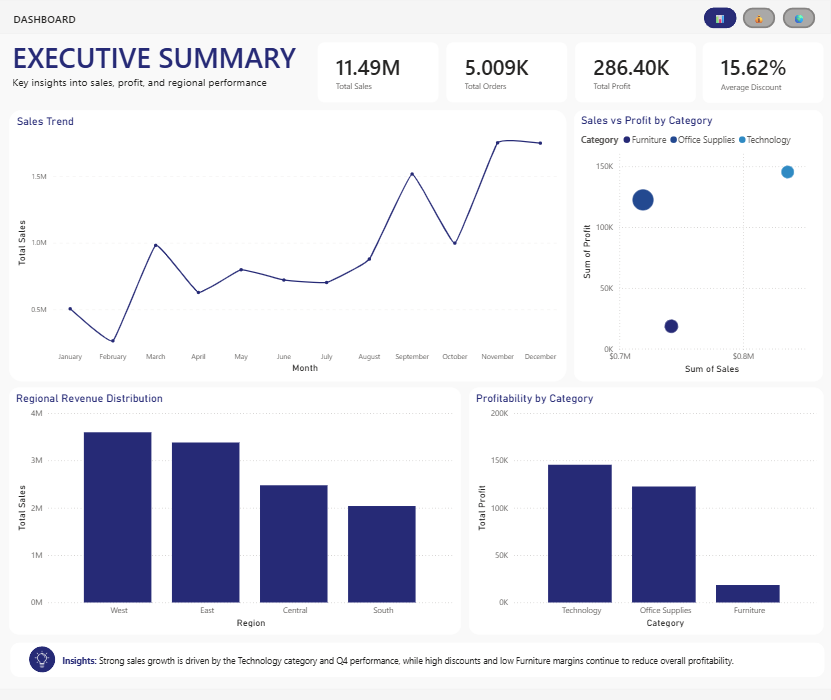

What the dashboard file says about the page in this screenshot:
{"tool":"powerbi","page":{"name":"Executive Summary","canvas":[1280,1080],"ordinal":0},"visuals":[{"type":"cardVisual","title":"Revenue","fields":{"Data":["Superstore.Total Sales"]},"box":[489.7,64.7,185.5,92],"z":0},{"type":"cardVisual","fields":{"Data":["Superstore.Total Profit"]},"box":[887.2,64.7,185.5,92],"z":1000},{"type":"group","id":"g1","title":"Group 3","box":[16.2,169.1,1252.9,417.6],"z":2000},{"type":"cardVisual","fields":{"Data":["Superstore.Total Orders"]},"box":[688.8,64.7,185.5,92],"z":3000},{"type":"shape","box":[0,0,1280.3,52],"z":4000},{"type":"lineChart","title":"Sales Trend","fields":{"Category":["DateTable.Date.Variation.Date Hierarchy.Year","DateTable.Date.Variation.Date Hierarchy.Month"],"Y":["Superstore.Total Sales"]},"box":[16.2,169.5,857.7,417.2],"z":4000,"group":"g1"},{"type":"cardVisual","fields":{"Data":["Superstore.Average Discount"]},"box":[1083.6,64.7,185.5,92.8],"z":5000},{"type":"shape","box":[16.5,988.7,1252.8,53.2],"z":5000,"group":"g2"},{"type":"group","id":"g2","title":"Group 1","box":[16.5,988.7,1252.8,53.2],"z":6000},{"type":"shape","box":[45.8,995.1,40.4,40.4],"z":6000,"group":"g2"},{"type":"clusteredColumnChart","title":"Profitability by Category","fields":{"Y":["Superstore.Total Profit"],"Category":["Superstore.Category"]},"box":[723.3,597.1,545.8,380.3],"z":7000},{"type":"image","box":[45.8,999.1,40.4,32.3],"z":7000,"group":"g2"},{"type":"scatterChart","title":"Sales vs Profit by Category","fields":{"X":["Sum(Superstore.Sales)"],"Y":["Sum(Superstore.Profit)"],"Category":["Superstore.Category"],"Size":["Sum(Superstore.Quantity)"],"Series":["Superstore.Category"]},"box":[886.3,169.1,382.8,417.4],"z":8000,"group":"g1"},{"type":"textbox","box":[91.6,1001.8,1095.6,33.7],"z":8000,"group":"g2"},{"type":"shape","box":[0,1059.8,1280.3,20.2],"z":8000},{"type":"columnChart","title":"Regional Revenue Distribution","fields":{"Y":["Superstore.Total Sales"],"Category":["Superstore.Region"]},"box":[16.2,597.1,695,380.3],"z":9000},{"type":"actionButton","box":[1085,12,50,32],"z":10000},{"type":"actionButton","box":[1145,12,50,32],"z":11000},{"type":"textbox","box":[16.2,54.4,473.5,114.7],"z":12000},{"type":"actionButton","box":[1205,12,50,32],"z":13000},{"type":"textbox","box":[16.5,12.8,858.4,38.5],"z":14000}]}

Visuals, with their boxes in screenshot pixels (x1, y1, x2, y2), scaled from the page's 1280x1080 canvas onto the 831x700 screenshot:
"Revenue" cardVisual: [left=318, top=42, right=438, bottom=102]
cardVisual - Superstore.Total Profit: [left=576, top=42, right=696, bottom=102]
"Group 3" group: [left=11, top=110, right=824, bottom=380]
cardVisual - Superstore.Total Orders: [left=447, top=42, right=568, bottom=102]
shape: [left=0, top=0, right=830, bottom=34]
"Sales Trend" lineChart: [left=11, top=110, right=567, bottom=380]
cardVisual - Superstore.Average Discount: [left=703, top=42, right=824, bottom=102]
shape: [left=11, top=641, right=824, bottom=675]
"Group 1" group: [left=11, top=641, right=824, bottom=675]
shape: [left=30, top=645, right=56, bottom=671]
"Profitability by Category" clusteredColumnChart: [left=470, top=387, right=824, bottom=634]
image: [left=30, top=648, right=56, bottom=668]
"Sales vs Profit by Category" scatterChart: [left=575, top=110, right=824, bottom=380]
textbox: [left=59, top=649, right=771, bottom=671]
shape: [left=0, top=687, right=830, bottom=699]
"Regional Revenue Distribution" columnChart: [left=11, top=387, right=462, bottom=634]
actionButton: [left=704, top=8, right=737, bottom=29]
actionButton: [left=743, top=8, right=776, bottom=29]
textbox: [left=11, top=35, right=318, bottom=110]
actionButton: [left=782, top=8, right=815, bottom=29]
textbox: [left=11, top=8, right=568, bottom=33]
